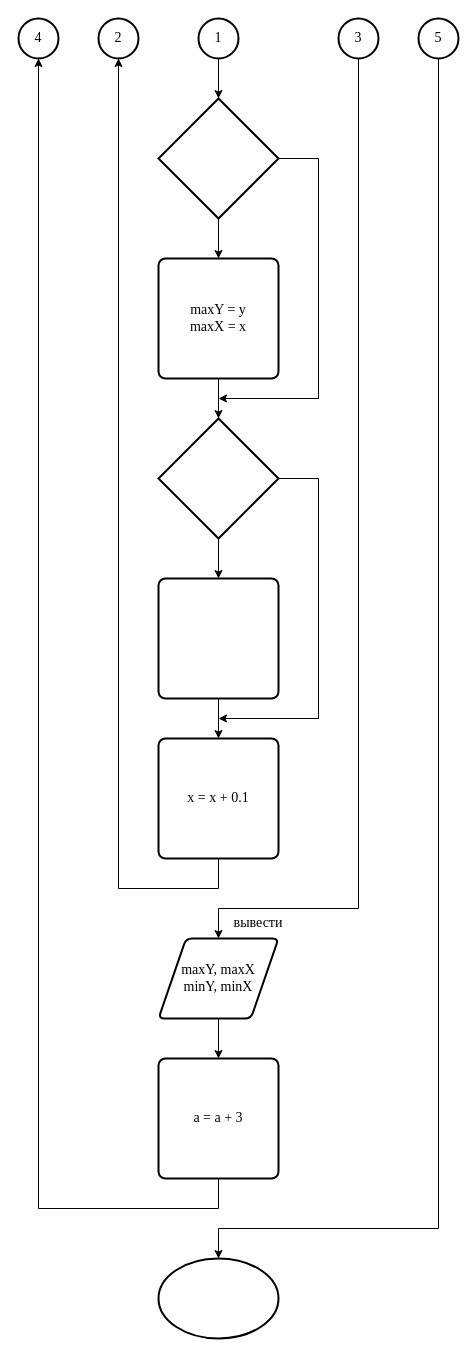
Some shapes in this 476 by 1356 pixel diagram are drawn without their labels. Each missing label, with the box of its shape:
minY = y minX = x: (157, 577, 279, 699)
y < minY: (157, 417, 279, 539)
y > maxY: (157, 97, 279, 219)
конец: (157, 1257, 279, 1339)
